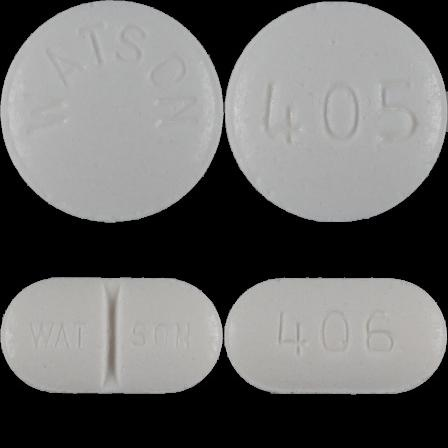0591-0405: (0, 0, 224, 224)
